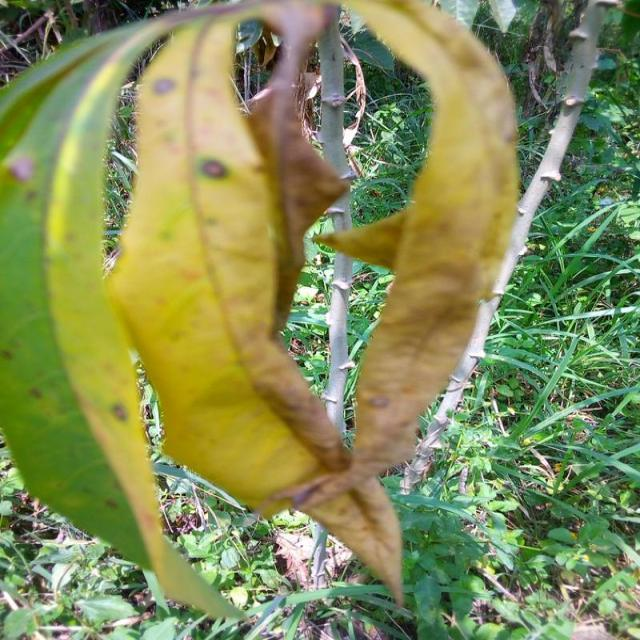cassava leaf: (1, 0, 522, 624)
